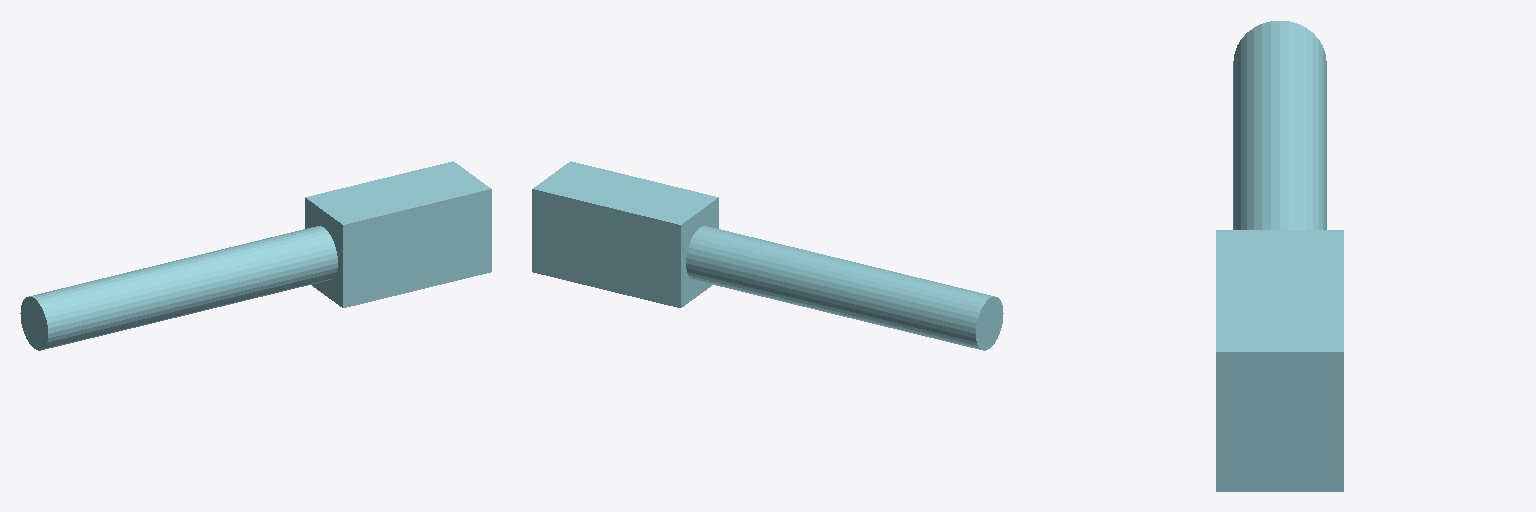
The robot description file, URDF, robot "cylinder_brush_v9007":
<?xml version="1.0"?>
<robot name="cylinder_brush_v9007">

  <link name="cylinder_brush_v9007">
    <!-- Handle -->
    <visual>
      <origin xyz="0 0 0" rpy="0 1.5707963267948966 0"/>
      <geometry>
        <cylinder length="0.18108327468557023" radius="0.01507329013123657"/>
      </geometry>
      <material name="material">
        <color rgba="0.639 0.847 0.882 1.0"/>
      </material>
    </visual>
    <collision>
      <origin xyz="0 0 0" rpy="0 1.5707963267948966 0"/>
      <geometry>
        <cylinder length="0.18108327468557023" radius="0.01507329013123657"/>
      </geometry>
    </collision>

    <!-- Head -->
    <visual>
      <origin xyz="0.13691859200602474 0 0" rpy="0 0 0"/>
      <geometry>
        <box size="0.09275390932647928 0.04107081680179223 0.04980832500296245"/>
      </geometry>
      <material name="material">
        <color rgba="0.639 0.847 0.882 1.0"/>
      </material>
    </visual>
    <collision>
      <origin xyz="0.13691859200602474 0 0" rpy="0 0 0"/>
      <geometry>
        <box size="0.09275390932647928 0.04107081680179223 0.04980832500296245"/>
      </geometry>
    </collision>

    <inertial>
      <density value="400.0"/>
    </inertial>
  </link>

</robot>

--- Facts derived from the render (not from the file) ---
Views: 3 orthographic renders of the robot side by side, from view 1: azimuth 30°, elevation 25°; view 2: azimuth 150°, elevation 25°; view 3: azimuth 270°, elevation 25°.
Robot: cylinder_brush_v9007 — 1 links, 0 joints (none); root link cylinder_brush_v9007; default pose: all joints at 0.
Visible links, largest first — view 1: cylinder_brush_v9007; view 2: cylinder_brush_v9007; view 3: cylinder_brush_v9007.
Boxes of the visible links, <box> form: cylinder_brush_v9007: <box>20,161,491,350</box>; cylinder_brush_v9007: <box>532,161,1003,350</box>; cylinder_brush_v9007: <box>1216,21,1343,491</box>.
Bounding box of the posed robot: 0.2738 × 0.0411 × 0.0498 m (x, y, z).
Geometry: primitives only (box / cylinder / sphere), no mesh files.
